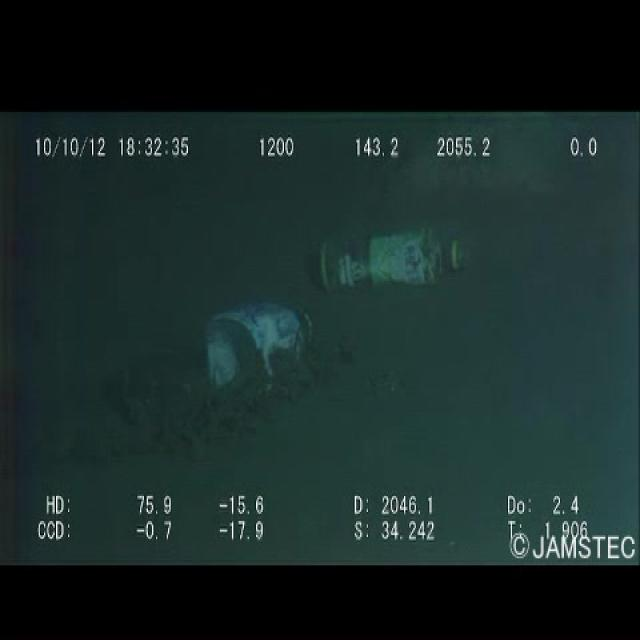plastic: (130, 281, 342, 418), (303, 214, 477, 300)
